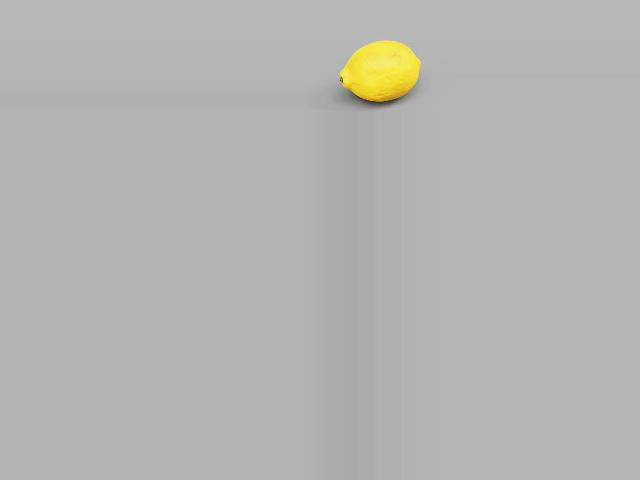lemon: (339, 36, 422, 100)
